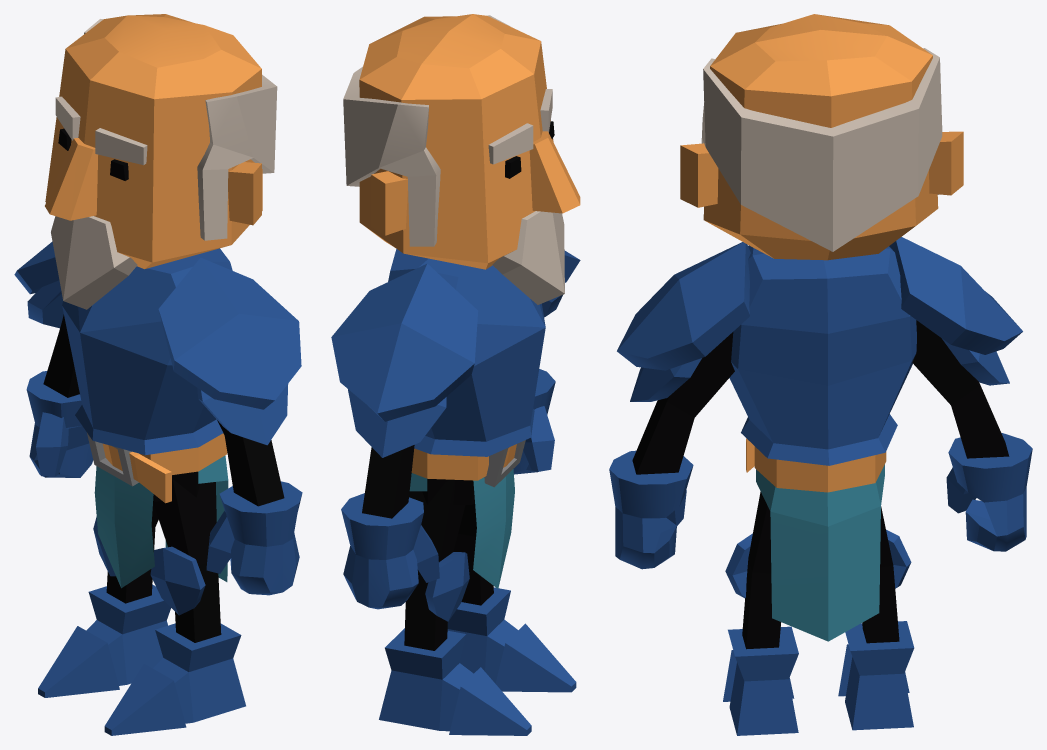
The model's file is npc2.glb.
3 renders of one model, left to right at view 1: azimuth 30°, elevation 25°; view 2: azimuth 150°, elevation 25°; view 3: azimuth 270°, elevation 25°, orthographic. The views are drawn at different scales.
Parts seen in each view (by area): view 1: npc2; view 2: npc2; view 3: npc2.
Part boxes in pixels (x1=…): npc2: x1=14, y1=14, x2=302, y2=735; npc2: x1=331, y1=14, x2=580, y2=735; npc2: x1=609, y1=14, x2=1032, y2=735.
Bounding box in the file's own units: 0.5512 × 1.64 × 0.919.
Materials: 1 (1 with a texture image).
